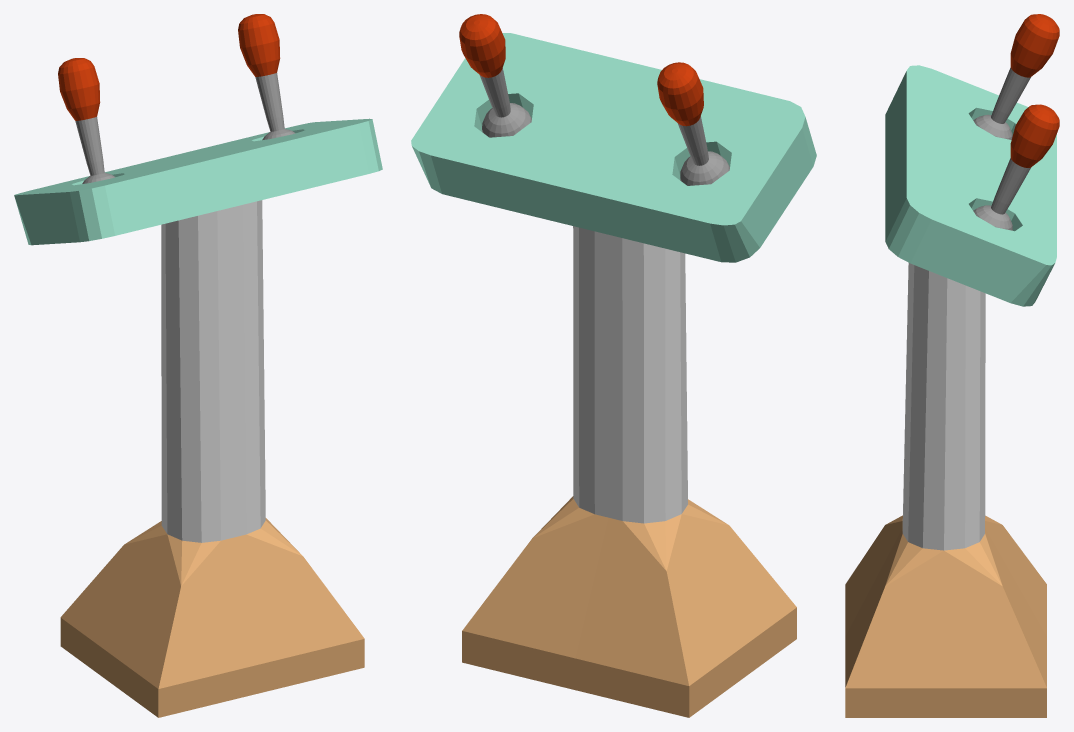
File: ControlPanel.fbx
3 views of the same model, side by side, from view 1: azimuth 30°, elevation 25°; view 2: azimuth 150°, elevation 25°; view 3: azimuth 270°, elevation 25° (orthographic). The views are drawn at different scales.
Visible parts, largest first — view 1: Cube, Joystick, Joystick.001; view 2: Cube, Joystick.001, Joystick; view 3: Cube, Joystick, Joystick.001.
Part boxes in pixels (box(x1,y1,x2,y2)): Cube: box(14, 118, 382, 717); Joystick: box(238, 14, 295, 139); Joystick.001: box(58, 58, 115, 183); Cube: box(411, 33, 816, 717); Joystick.001: box(657, 62, 729, 185); Joystick: box(459, 14, 531, 137); Cube: box(845, 65, 1056, 717); Joystick: box(973, 104, 1059, 230); Joystick.001: box(973, 14, 1059, 139).
Size of the model in its own units: 174 by 326 by 105.
